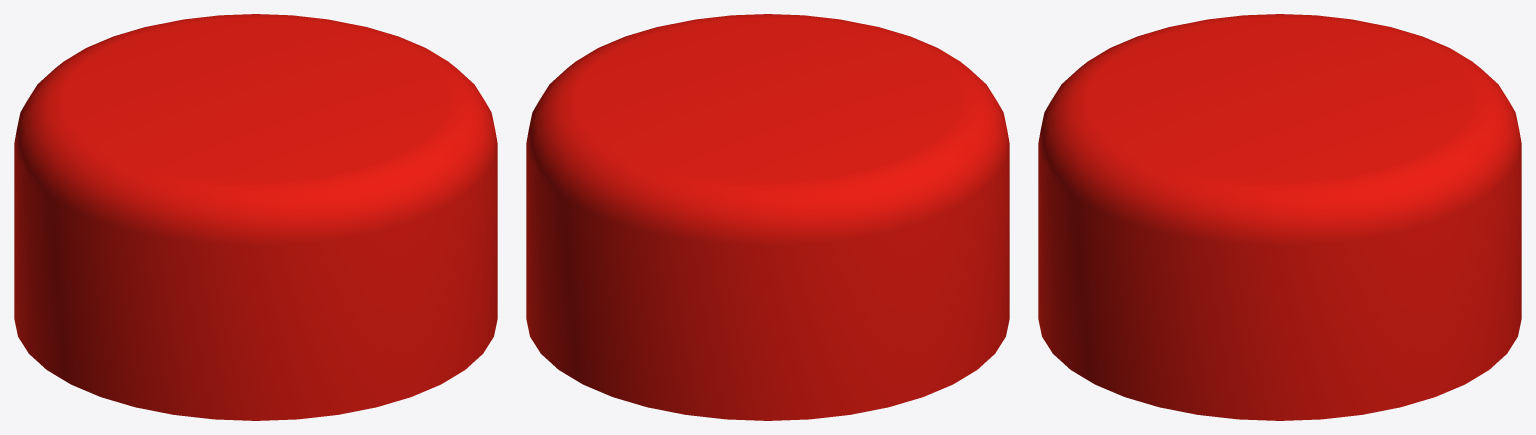
The model's file is spin_button.glb.
The picture shows the model from 3 angles, left to right: view 1: azimuth 30°, elevation 25°; view 2: azimuth 150°, elevation 25°; view 3: azimuth 270°, elevation 25°; orthographic projection.
Visible parts, largest first — view 1: spin_button; view 2: spin_button; view 3: spin_button.
Part boxes in pixels (left/top/right/bottom): spin_button: left=14, top=14, right=497, bottom=420; spin_button: left=526, top=14, right=1009, bottom=420; spin_button: left=1038, top=14, right=1521, bottom=420.
Size of the model in its own units: 1 by 0.5 by 1.
